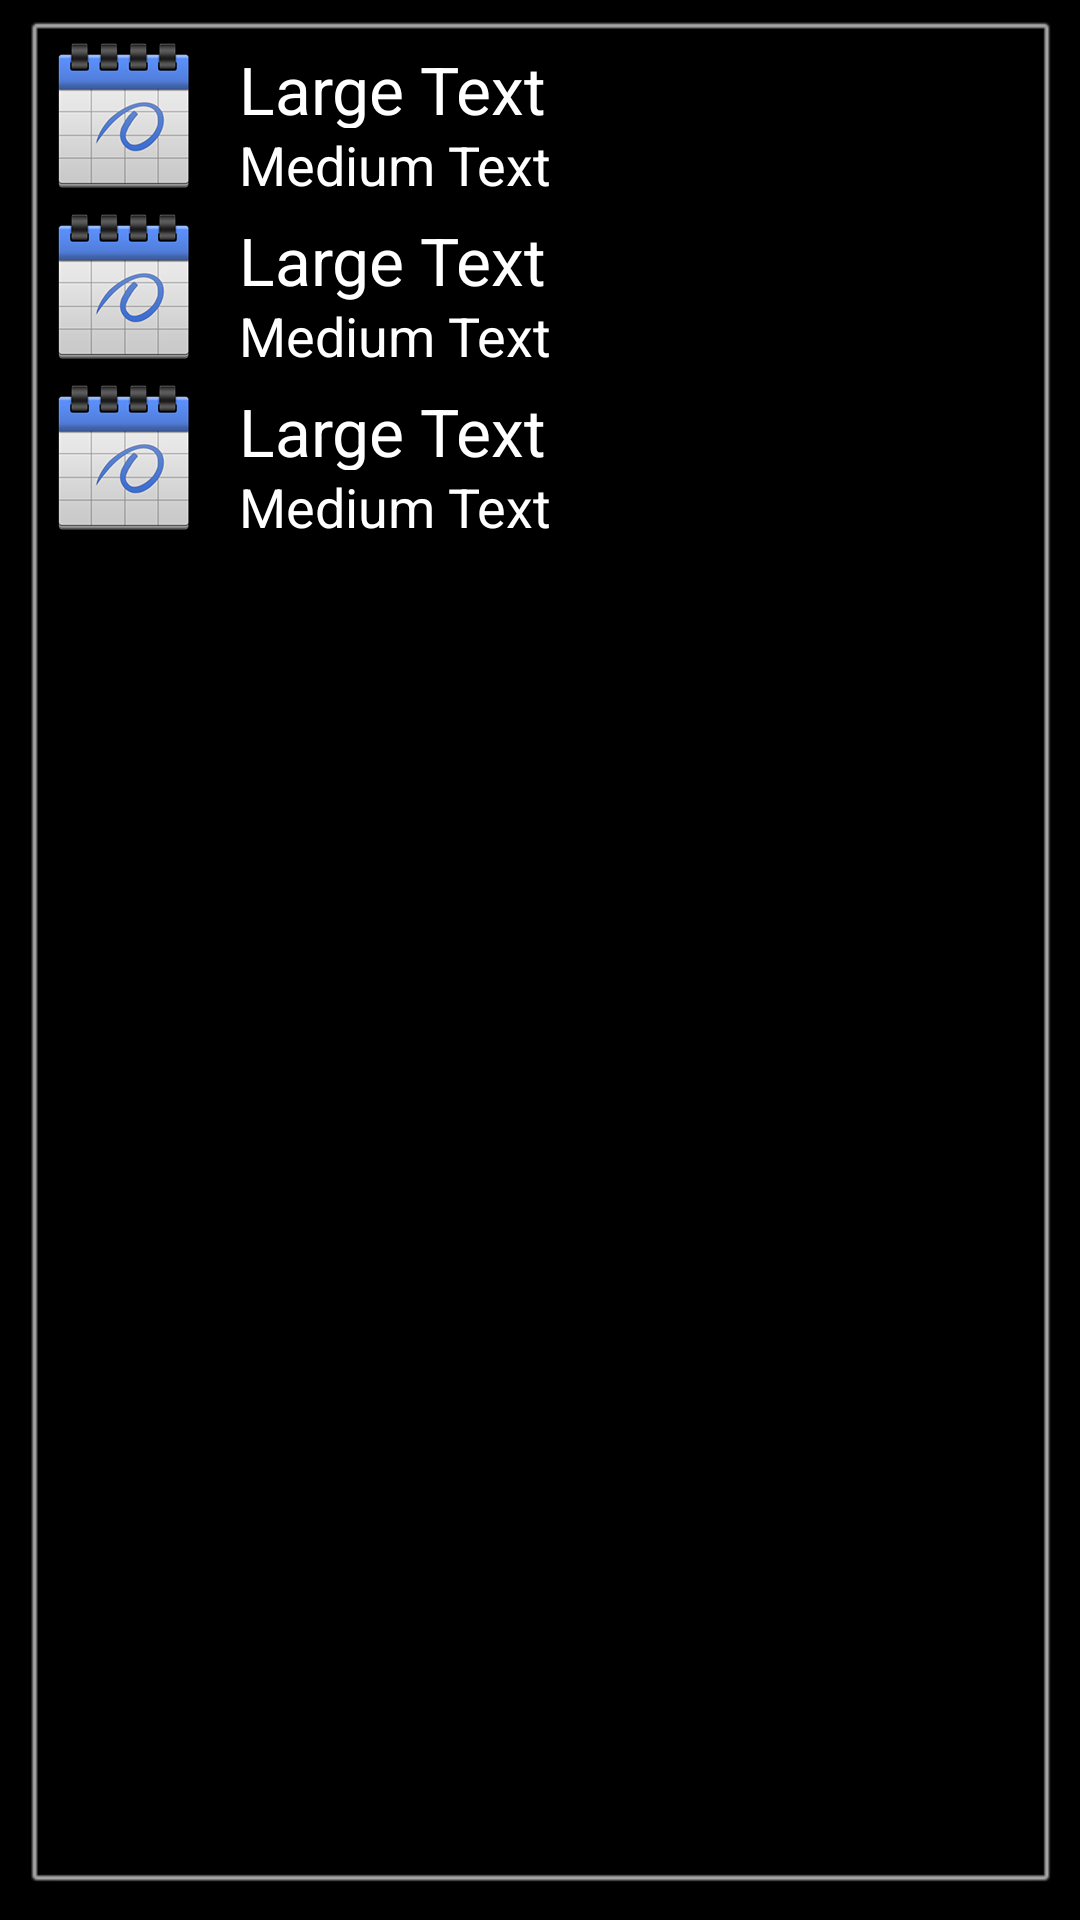

Icon bounding boxes for this 1080px×1920px phone screenshot, format region(x1, y1, x2, y2):
calendar: region(58, 43, 189, 188), region(58, 214, 189, 359), region(58, 385, 189, 530)
